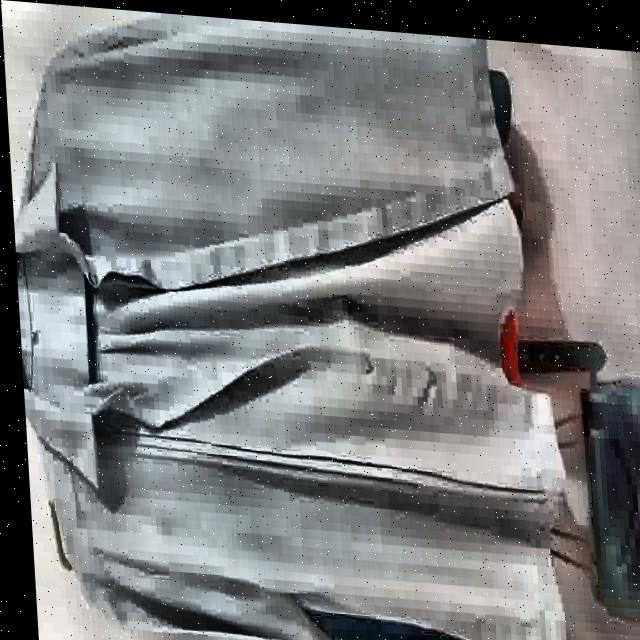clothes: (0, 0, 577, 640)
